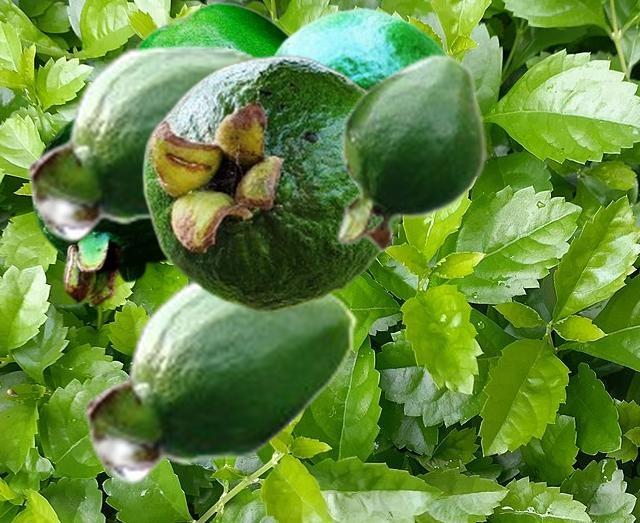guava: (141, 54, 405, 313), (84, 278, 357, 484), (27, 43, 264, 242), (336, 52, 485, 253), (31, 119, 167, 306), (271, 6, 449, 87), (135, 2, 288, 55)
